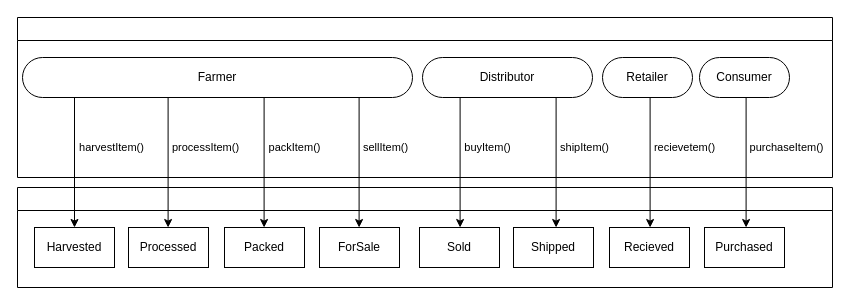
The diagram is 854 pixels wide and 305 high, and some of its shapes have lost their labels. Here are the shapes that lost their labels. From the top down, the centre of each, then its label:
(424,97): Roles
(424,237): Coffee State
